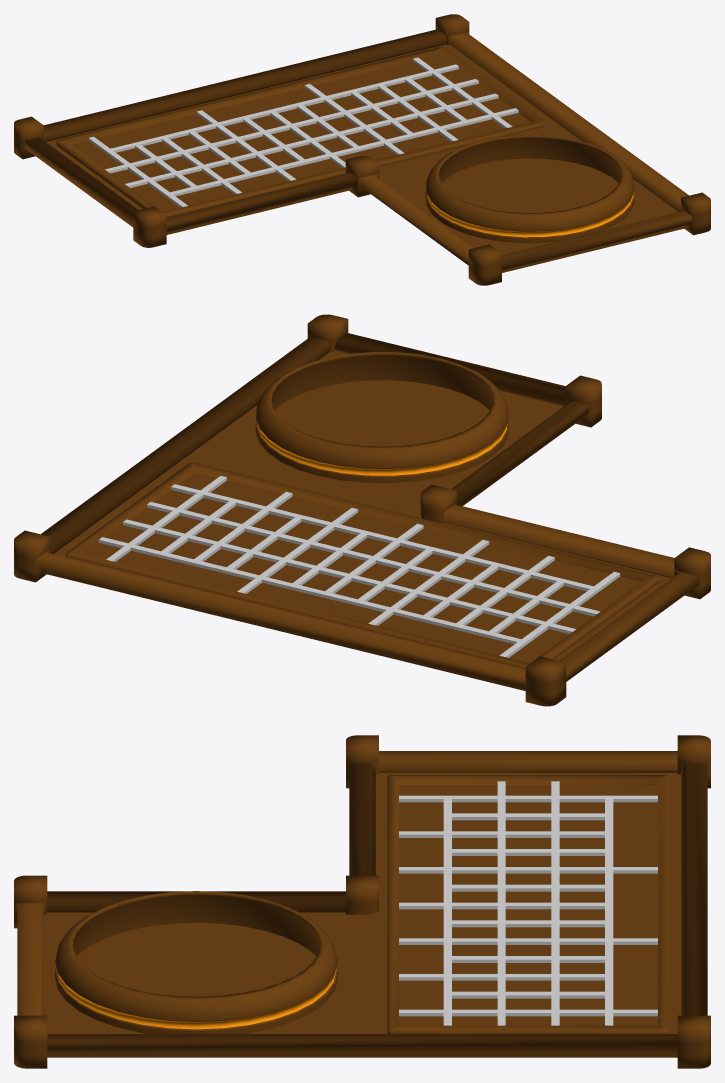
Rendered from tiltable (1).glb.
3 renders of one model, top to bottom at view 1: azimuth 30°, elevation 25°; view 2: azimuth 150°, elevation 25°; view 3: azimuth 270°, elevation 25°, orthographic. The views are drawn at different scales.
Parts seen in each view (by area): view 1: base_table, back_corner_wall, wheel_rim, bet_edge, table_bar_y, table_bar_x, inner_corner_wall, wheel_wall, far_wall, close_corner, far_corner; view 2: base_table, back_corner_wall, wheel_rim, table_bar_y, bet_edge, table_bar_x, inner_corner_wall, far_wall, wheel_wall, far_corner, close_corner; view 3: base_table, wheel_rim, back_corner_wall, table_bar_x, bet_edge, table_bar_y, inner_corner_wall, far_wall, wheel_wall, close_corner, far_corner.
Part boxes in pixels (box(x1,y1,x2,y2)): base_table: box(46, 44, 687, 272); back_corner_wall: box(44, 14, 688, 211); wheel_rim: box(425, 135, 634, 243); bet_edge: box(56, 47, 545, 216); table_bar_y: box(105, 64, 518, 196); table_bar_x: box(88, 57, 512, 207); inner_corner_wall: box(166, 156, 473, 265); wheel_wall: box(468, 211, 692, 285); far_wall: box(25, 137, 166, 247); close_corner: box(681, 192, 710, 235); far_corner: box(14, 116, 43, 159); base_table: box(43, 351, 671, 690); back_corner_wall: box(14, 337, 525, 687); wheel_rim: box(255, 352, 508, 483); table_bar_y: box(98, 484, 600, 644); bet_edge: box(66, 463, 658, 669); table_bar_x: box(106, 476, 620, 657); inner_corner_wall: box(420, 401, 674, 578); far_wall: box(560, 547, 710, 681); wheel_wall: box(335, 333, 601, 427); far_corner: box(525, 656, 566, 706); close_corner: box(307, 314, 348, 352); base_table: box(44, 772, 680, 1057); wheel_rim: box(55, 891, 337, 1033); back_corner_wall: box(47, 763, 710, 1068); table_bar_x: box(399, 795, 657, 1016); bet_edge: box(387, 775, 669, 1033); table_bar_y: box(443, 781, 613, 1025); inner_corner_wall: box(47, 763, 378, 914); far_wall: box(346, 735, 677, 788); wheel_wall: box(14, 875, 47, 1015); close_corner: box(14, 1015, 47, 1068); far_corner: box(677, 735, 710, 788).
Size of the model in its own units: 4.2 by 0.3134 by 4.2.
